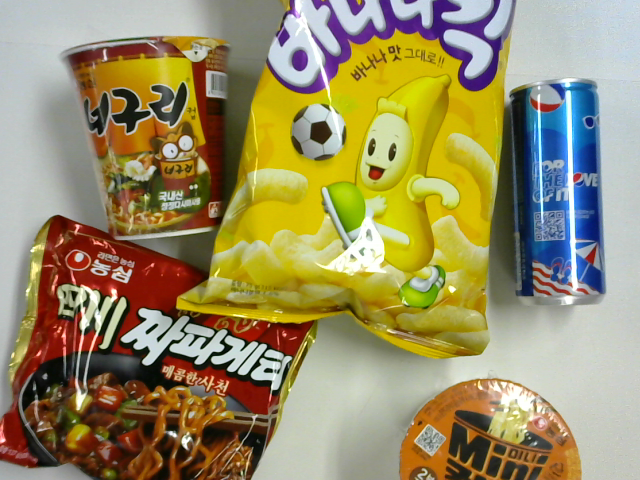Banana_Kick: (177, 1, 518, 362)
Pepsi_Cola_Can_250ml: (508, 77, 607, 305)
Raccoon: (61, 36, 232, 242)
Sichuan_Chapaghetti: (1, 214, 320, 479)
Udongmini: (399, 377, 583, 480)
